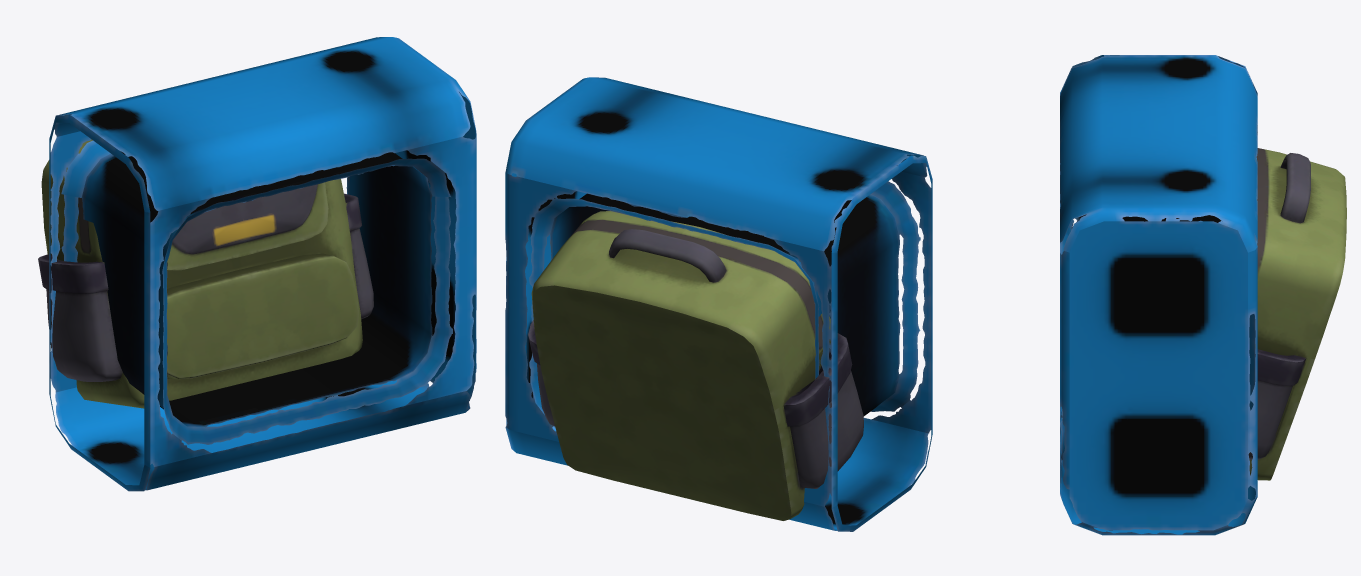
File: IG_Backpack_SBossElec_ResSpace.fbx
3 views of the same model, side by side, from view 1: azimuth 30°, elevation 25°; view 2: azimuth 150°, elevation 25°; view 3: azimuth 270°, elevation 25° (orthographic). The views are drawn at different scales.
Parts seen in each view (by area): view 1: Boss_Horsemen_B_Backpack, Backpack_LV1; view 2: Boss_Horsemen_B_Backpack, Backpack_LV1; view 3: Boss_Horsemen_B_Backpack, Backpack_LV1.
Boxes of the visible parts, left/top/right/bottom form: Boss_Horsemen_B_Backpack: left=49, top=37, right=476, bottom=491; Backpack_LV1: left=38, top=139, right=373, bottom=408; Boss_Horsemen_B_Backpack: left=505, top=77, right=932, bottom=531; Backpack_LV1: left=528, top=211, right=863, bottom=520; Boss_Horsemen_B_Backpack: left=1060, top=55, right=1257, bottom=535; Backpack_LV1: left=1248, top=148, right=1346, bottom=480.
Size of the model in its own units: 0.5731 by 0.6319 by 0.4632.
